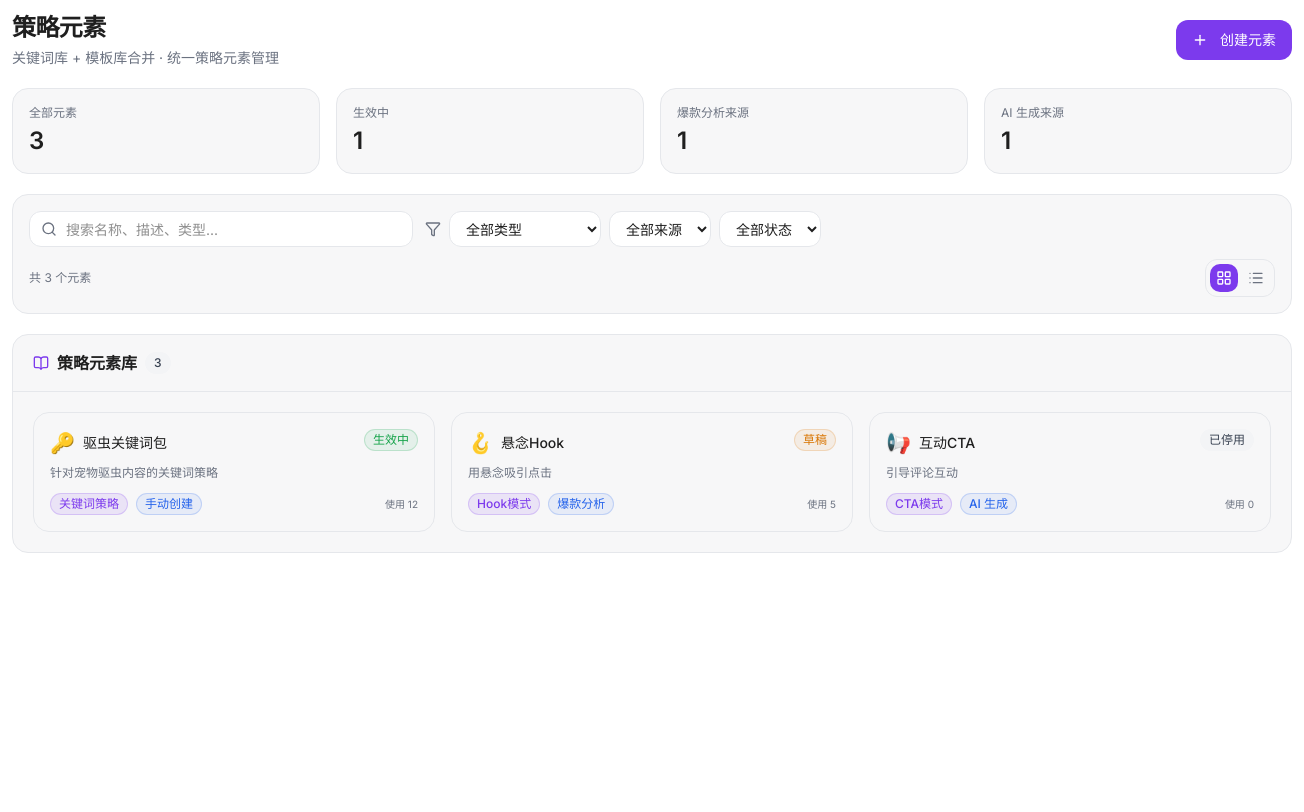
it: StrategyElementsPage › opens detail aside when clicking an element
The width and height of the screenshot is (1304, 812).
Click the heading "驱虫关键词包": point(125, 443) [83,433,167,453]
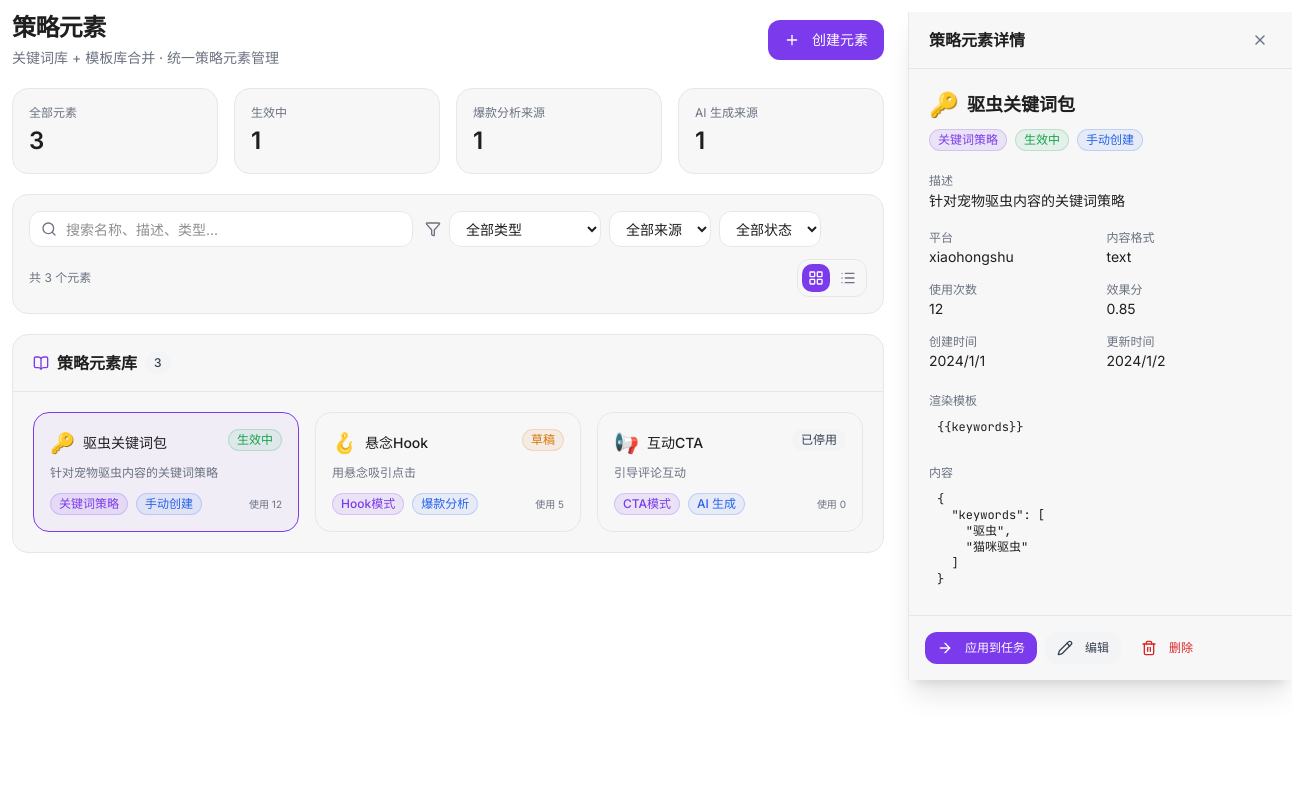
Check: the heading "策略元素详情" is shown, box [929,28,1025,52]
Check: the button "应用到任务" is shown, box [925,632,1037,664]
